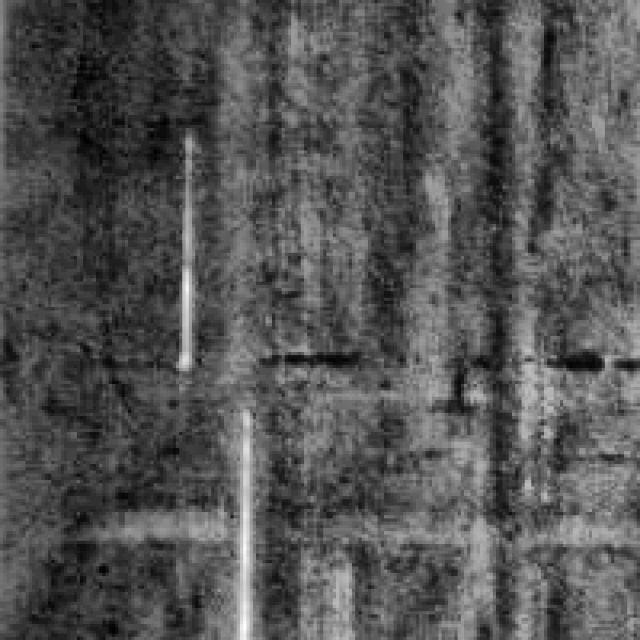Inclusion: (163, 128, 195, 371), (224, 401, 256, 634)
